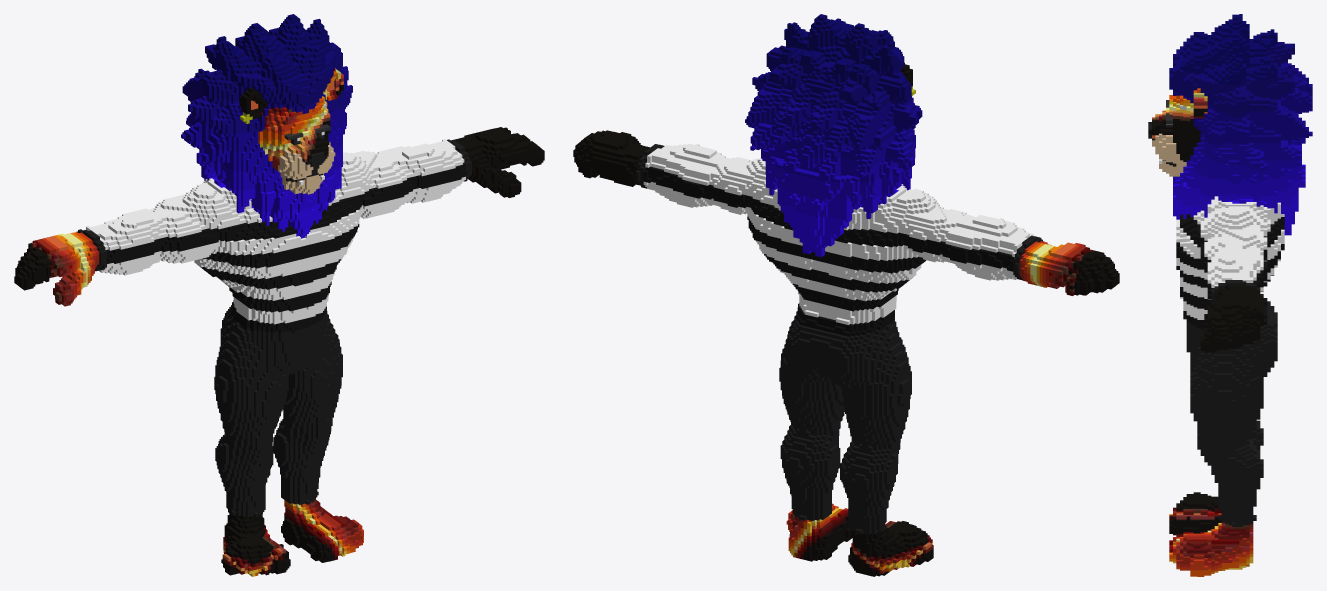
The picture shows the model from 3 angles, left to right: view 1: azimuth 30°, elevation 25°; view 2: azimuth 150°, elevation 25°; view 3: azimuth 270°, elevation 25°; orthographic projection. The views are drawn at different scales.
Visible parts, largest first — view 1: standard; view 2: standard; view 3: standard.
Part boxes in pixels (left/top/right/bottom): standard: left=14, top=14, right=544, bottom=576; standard: left=573, top=14, right=1119, bottom=576; standard: left=1148, top=14, right=1312, bottom=576.
Size of the model in its own units: 17.2 by 16.5 by 4.7.
Materials: 6 (6 with a texture image).
